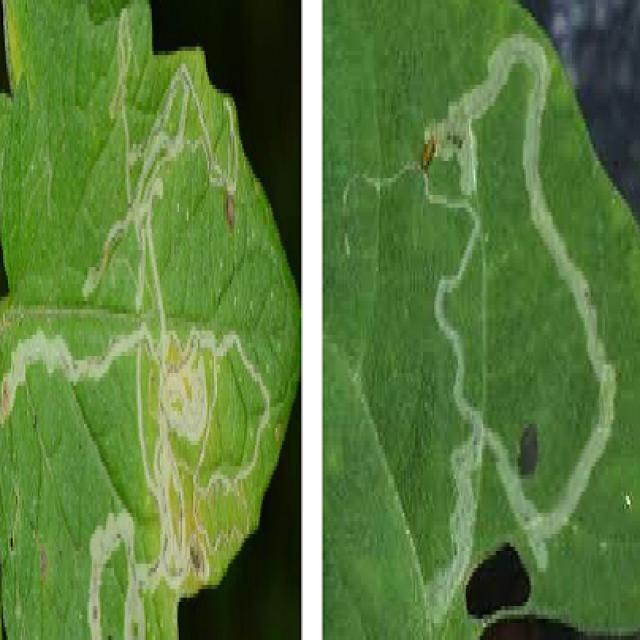Serpentine leafminer: (0, 0, 277, 640), (339, 27, 619, 627)
